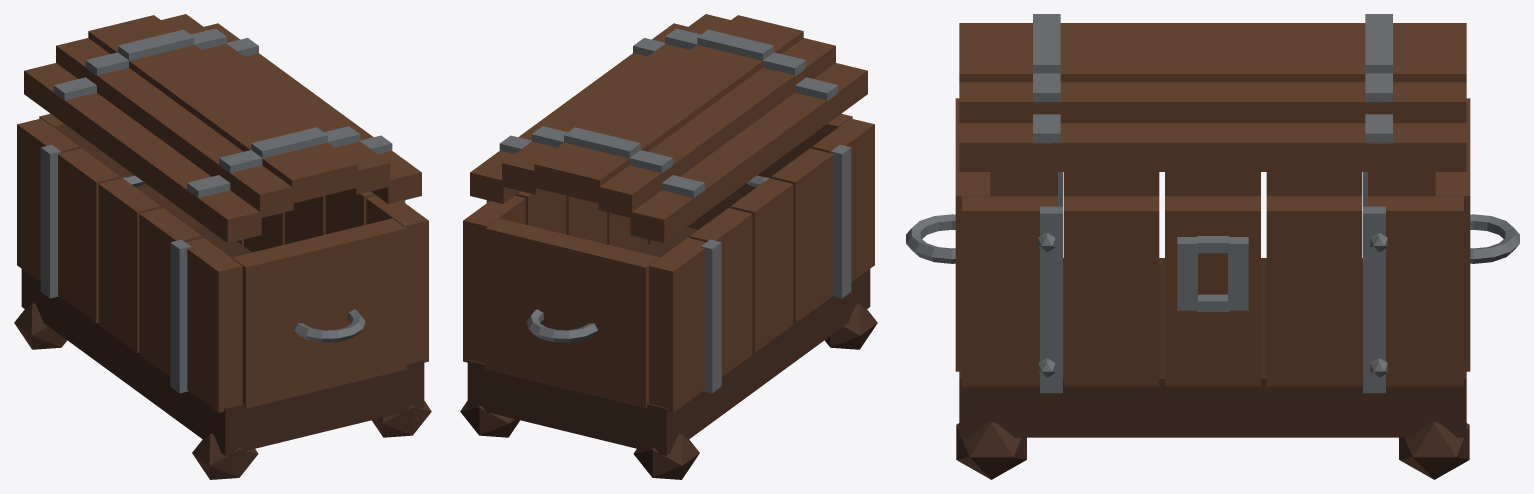
The model's file is Chest__Banded.fbx.
The picture shows the model from 3 angles, left to right: view 1: azimuth 30°, elevation 25°; view 2: azimuth 150°, elevation 25°; view 3: azimuth 270°, elevation 25°; orthographic projection. The views are drawn at different scales.
Visible parts, largest first — view 1: Chest__Banded; view 2: Chest__Banded; view 3: Chest__Banded.
Boxes of the visible parts, x1=… form: Chest__Banded: x1=14, y1=14, x2=431, y2=479; Chest__Banded: x1=460, y1=14, x2=877, y2=479; Chest__Banded: x1=906, y1=14, x2=1519, y2=479.
Size of the model in its own units: 73.02 by 89.22 by 133.
1 material, 1 textured.
